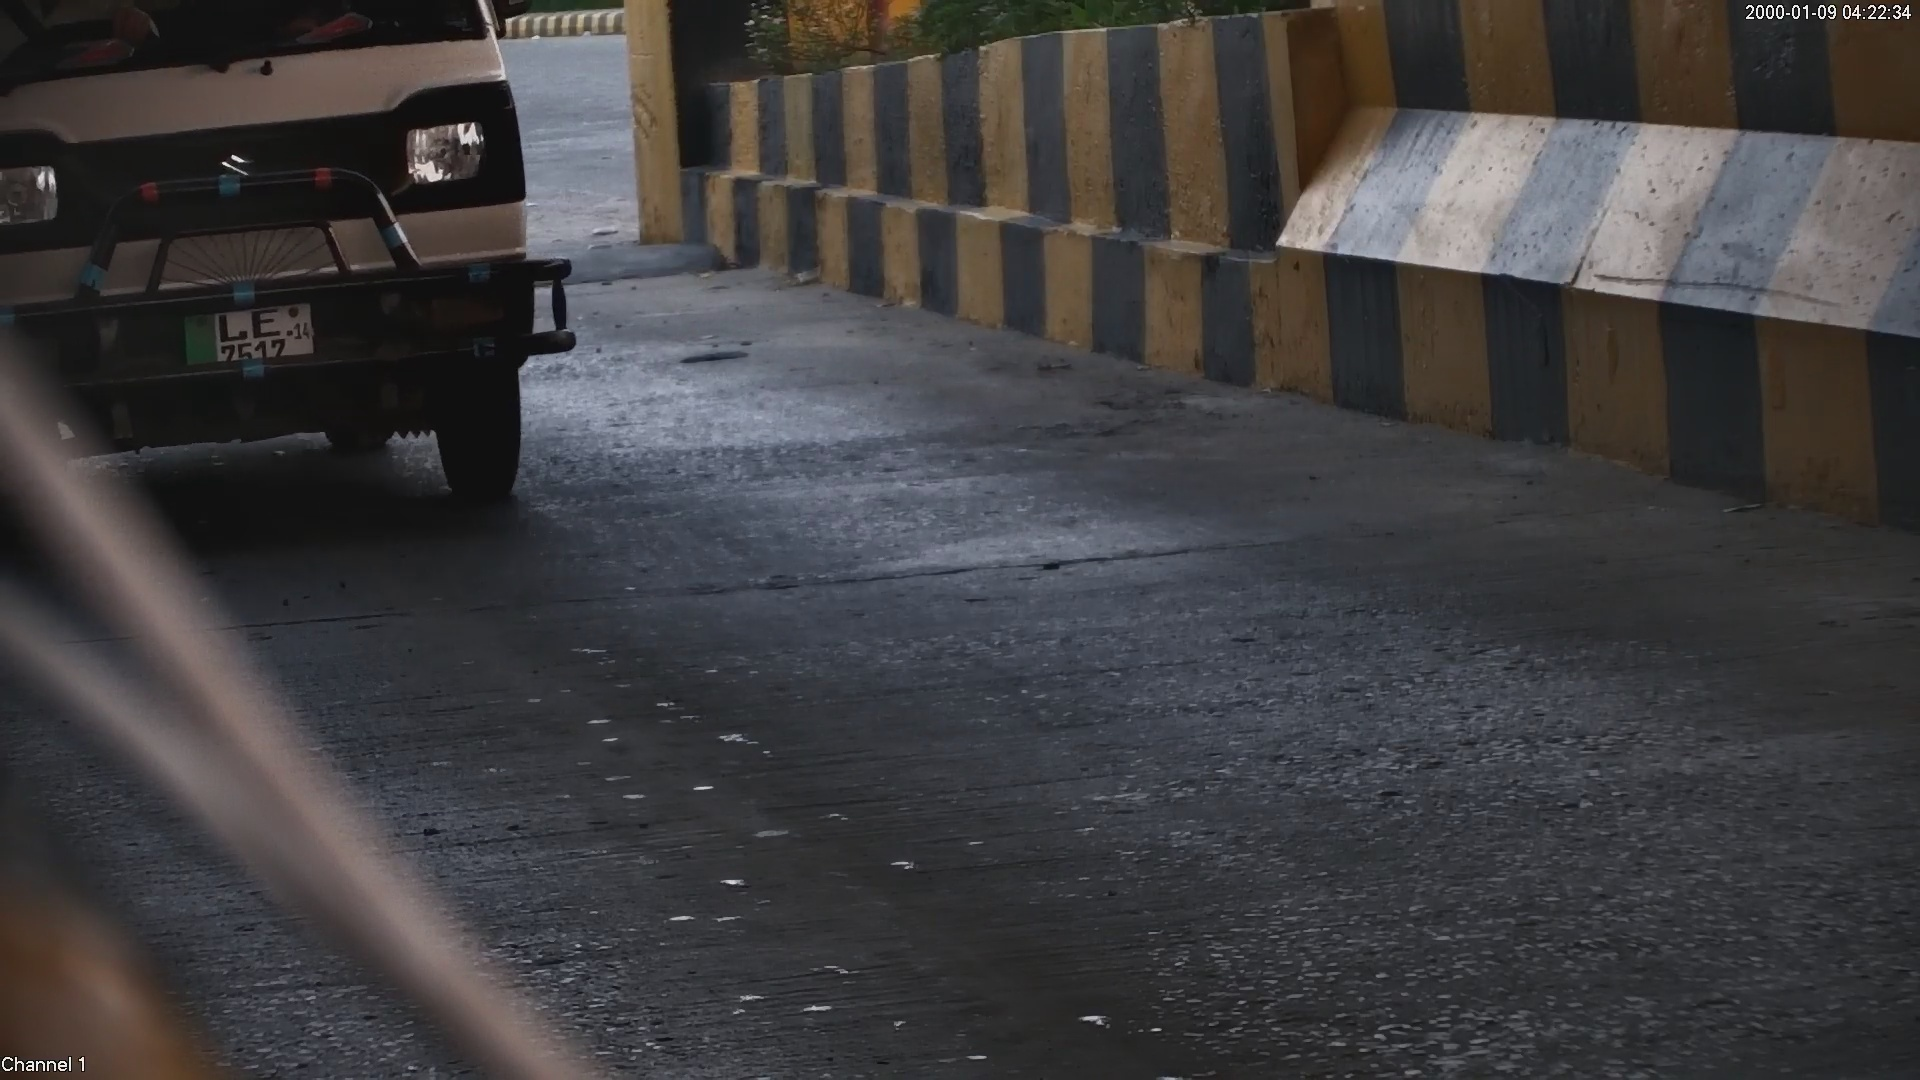Number_Plate: (158, 294, 341, 381)
Undefined: (382, 107, 504, 192), (4, 159, 82, 240), (189, 151, 276, 194)
